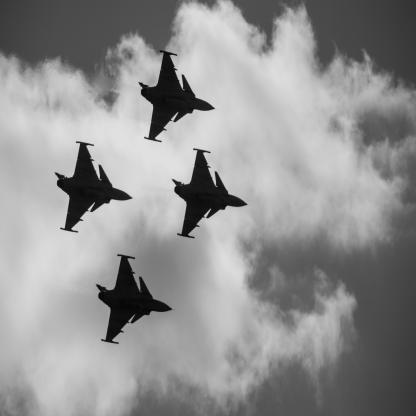JAS39: (55, 142, 138, 234), (139, 51, 220, 143), (172, 149, 253, 240), (97, 255, 177, 345)
